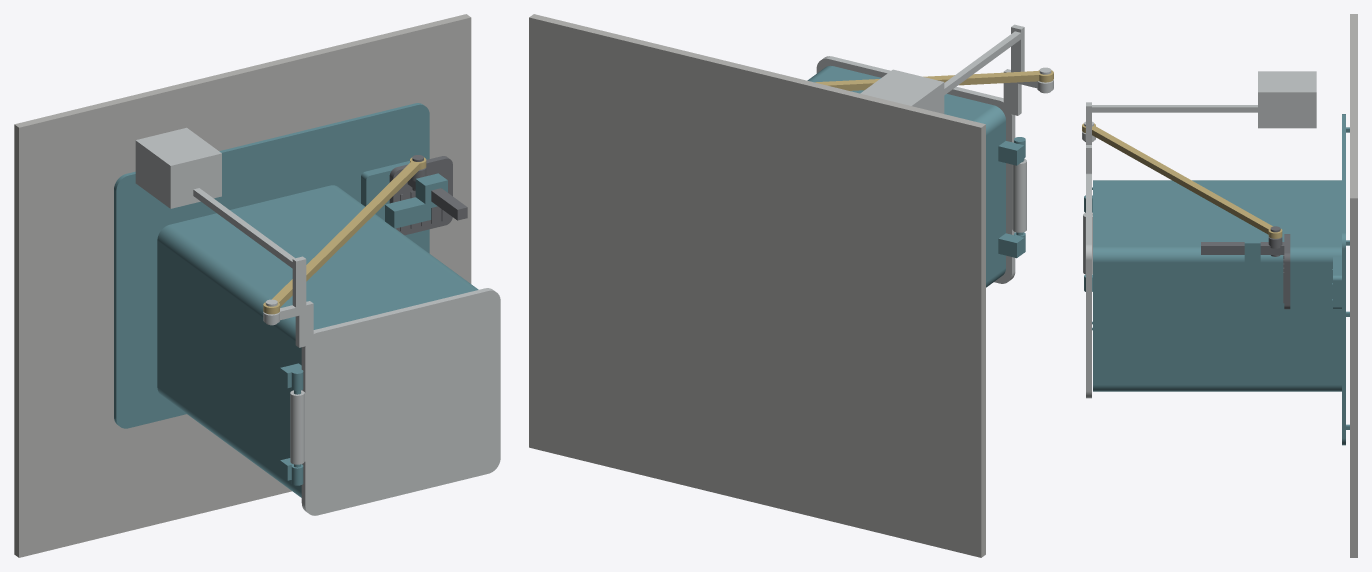
Rendered from original-body-local.glb.
The picture shows the model from 3 angles, left to right: view 1: azimuth 30°, elevation 25°; view 2: azimuth 150°, elevation 25°; view 3: azimuth 270°, elevation 25°; orthographic projection. The views are drawn at different scales.
Visible parts, largest first — view 1: level_support, bin_frame, lid, pedal, pull_rod; view 2: level_support, lid, bin_frame, pull_rod; view 3: bin_frame, lid, level_support, pull_rod, pedal.
Boxes of the visible parts, box(x1,y1,x2,y2) form: level_support: box(14, 14, 471, 557); bin_frame: box(114, 103, 478, 497); lid: box(135, 127, 500, 515); pedal: box(389, 155, 467, 235); pull_rod: box(263, 157, 426, 314); level_support: box(529, 14, 985, 557); lid: box(816, 24, 1053, 283); bin_frame: box(807, 65, 1025, 287); pull_rod: box(815, 70, 1053, 90); bin_frame: box(1084, 114, 1349, 445); lid: box(1082, 71, 1316, 398); level_support: box(1350, 14, 1357, 557); pull_rod: box(1082, 123, 1282, 238); pedal: box(1201, 226, 1290, 309).
Size of the model in its own units: 0.44 by 0.4 by 0.278.
